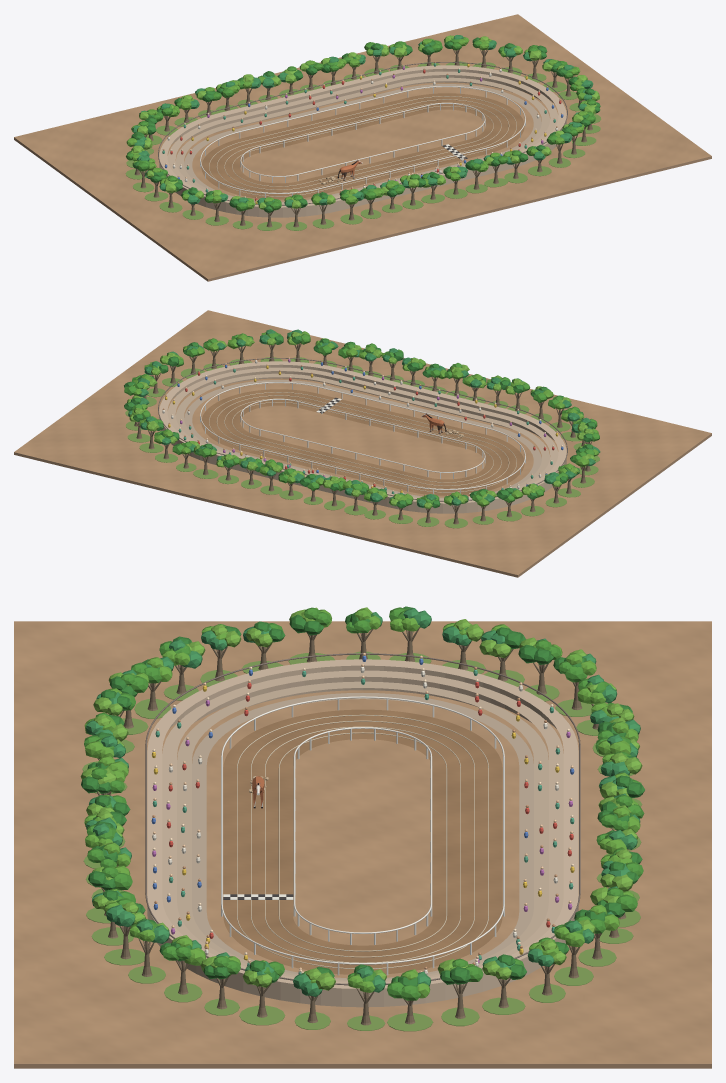
The model's file is racetrack-dirt.glb.
3 views of the same model, one above another, from view 1: azimuth 30°, elevation 25°; view 2: azimuth 150°, elevation 25°; view 3: azimuth 270°, elevation 25° (orthographic). The views are drawn at different scales.
Visible parts, largest first — view 1: SOIL_ground_color_detail, ENV_oval_racing_surface, STAND_oval_terrace_4, STAND_oval_terrace_3, STAND_oval_terrace_2, ENV_sand_ground, STAND_oval_terrace_1, ENV_outer_white_rail, ENV_inner_white_rail, STAND_outer_guard_rail, LANE_divider_4, LANE_divider_3 (+2 smaller); view 2: SOIL_ground_color_detail, ENV_oval_racing_surface, STAND_oval_terrace_4, STAND_oval_terrace_3, STAND_oval_terrace_2, ENV_sand_ground, STAND_oval_terrace_1, ENV_outer_white_rail, ENV_inner_white_rail, STAND_outer_guard_rail, LANE_divider_4, LANE_divider_3 (+2 smaller); view 3: SOIL_ground_color_detail, ENV_oval_racing_surface, STAND_oval_terrace_4, STAND_oval_terrace_3, STAND_oval_terrace_2, STAND_oval_terrace_1, ENV_sand_ground, ENV_outer_white_rail, STAND_outer_guard_rail, ENV_inner_white_rail, LANE_divider_1, LANE_divider_4 (+2 smaller).
Part boxes in pixels (x1,y1,x2,y2): SOIL_ground_color_detail: (14, 14, 711, 278); ENV_oval_racing_surface: (201, 93, 524, 199); STAND_oval_terrace_4: (159, 65, 566, 217); STAND_oval_terrace_3: (167, 71, 558, 203); STAND_oval_terrace_2: (176, 77, 549, 203); ENV_sand_ground: (14, 137, 711, 281); STAND_oval_terrace_1: (184, 84, 541, 202); ENV_outer_white_rail: (200, 86, 525, 193); ENV_inner_white_rail: (240, 103, 485, 176); STAND_outer_guard_rail: (158, 62, 567, 205); LANE_divider_4: (209, 96, 516, 196); LANE_divider_3: (216, 99, 509, 193); SOIL_ground_color_detail: (14, 310, 711, 574); ENV_oval_racing_surface: (201, 389, 524, 495); STAND_oval_terrace_4: (159, 361, 566, 513); STAND_oval_terrace_3: (167, 367, 558, 499); STAND_oval_terrace_2: (176, 373, 549, 499); ENV_sand_ground: (14, 433, 711, 577); STAND_oval_terrace_1: (184, 380, 541, 498); ENV_outer_white_rail: (200, 382, 525, 489); ENV_inner_white_rail: (240, 399, 485, 472); STAND_outer_guard_rail: (158, 358, 567, 501); LANE_divider_4: (209, 392, 516, 492); LANE_divider_3: (216, 395, 509, 489); SOIL_ground_color_detail: (14, 621, 711, 1063); ENV_oval_racing_surface: (223, 709, 502, 974); STAND_oval_terrace_4: (147, 659, 578, 1007); STAND_oval_terrace_3: (162, 670, 563, 982); STAND_oval_terrace_2: (177, 681, 548, 980); STAND_oval_terrace_1: (192, 693, 533, 979); ENV_sand_ground: (14, 1063, 711, 1068); ENV_outer_white_rail: (221, 696, 504, 964); STAND_outer_guard_rail: (145, 653, 580, 985); ENV_inner_white_rail: (293, 727, 432, 933); LANE_divider_1: (278, 732, 447, 951); LANE_divider_4: (237, 714, 488, 968).
Bounding box in the file's own units: 60 × 3.84 × 40.
